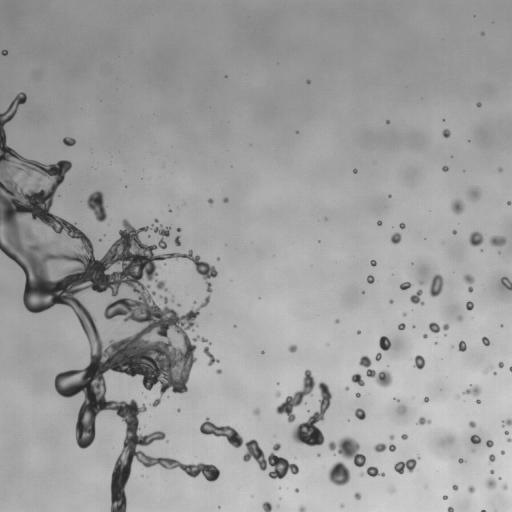droplet: (87, 190, 107, 222), (327, 461, 350, 485), (429, 274, 443, 297), (409, 289, 425, 305), (450, 198, 465, 215), (462, 384, 481, 396), (366, 465, 385, 477), (468, 231, 483, 246), (467, 186, 481, 201), (489, 235, 506, 247), (463, 274, 474, 292), (351, 372, 365, 386), (379, 336, 391, 351), (413, 355, 425, 369), (500, 276, 511, 290), (354, 408, 366, 420), (390, 232, 401, 244), (62, 137, 76, 146), (399, 282, 413, 291), (470, 434, 481, 445), (47, 154, 58, 165), (460, 195, 471, 206), (84, 208, 95, 219), (159, 216, 170, 227), (192, 347, 203, 358), (79, 356, 90, 367), (370, 360, 381, 371), (188, 366, 199, 377), (387, 366, 398, 377), (103, 368, 114, 379), (364, 376, 375, 387), (382, 384, 393, 395), (75, 391, 86, 402), (355, 397, 366, 408), (309, 401, 320, 412), (419, 405, 430, 416), (96, 409, 107, 420), (296, 412, 307, 423), (116, 419, 127, 430), (136, 425, 147, 436), (66, 426, 77, 437), (116, 427, 127, 438), (321, 430, 332, 441), (350, 431, 361, 442), (316, 442, 327, 453), (261, 445, 272, 456), (342, 457, 353, 468), (130, 459, 141, 470), (383, 463, 394, 474), (344, 480, 355, 491), (474, 480, 485, 491), (122, 482, 133, 493), (293, 493, 304, 504), (252, 407, 260, 420), (481, 336, 491, 346), (501, 417, 511, 427), (262, 501, 272, 511), (397, 404, 406, 414), (446, 434, 455, 444), (458, 340, 466, 351), (174, 235, 181, 247), (288, 344, 297, 353), (4, 138, 13, 147), (63, 170, 72, 179), (85, 186, 94, 195), (479, 190, 488, 199), (213, 196, 222, 205), (443, 202, 452, 211), (456, 211, 465, 220), (493, 228, 502, 237), (164, 235, 173, 244), (481, 238, 490, 247), (166, 243, 175, 252), (178, 244, 187, 253), (93, 251, 102, 260), (365, 265, 374, 274), (421, 283, 430, 292), (407, 286, 416, 295), (420, 291, 429, 300), (466, 292, 475, 301), (186, 329, 195, 338), (357, 366, 366, 375), (134, 373, 143, 382), (295, 381, 304, 390), (311, 385, 320, 394), (466, 393, 475, 402), (291, 405, 300, 414), (240, 433, 249, 442), (332, 435, 341, 444), (392, 436, 401, 445), (238, 444, 247, 453), (490, 445, 499, 454), (190, 456, 199, 465), (325, 460, 334, 469), (105, 464, 114, 473), (103, 475, 112, 484), (458, 483, 467, 492), (103, 488, 112, 497), (442, 128, 450, 138), (466, 300, 474, 310), (366, 274, 374, 283), (488, 454, 495, 464), (505, 236, 511, 247), (505, 442, 511, 453), (124, 505, 135, 511), (397, 323, 405, 331), (468, 420, 476, 428), (485, 440, 493, 448), (467, 485, 475, 493), (374, 352, 381, 361), (501, 481, 508, 490), (354, 492, 361, 500), (0, 221, 5, 232), (0, 231, 5, 242), (207, 198, 213, 207), (275, 390, 281, 399), (398, 222, 405, 229), (370, 259, 377, 266), (423, 395, 430, 402), (440, 122, 447, 129), (2, 123, 9, 130), (448, 127, 455, 134), (65, 131, 72, 138), (26, 153, 33, 160), (55, 185, 62, 192), (51, 193, 58, 200), (82, 193, 89, 200), (101, 199, 108, 206), (81, 201, 88, 208), (103, 206, 110, 213), (48, 207, 55, 214), (66, 216, 73, 223), (132, 222, 139, 229), (393, 225, 400, 232), (169, 230, 176, 237), (463, 234, 470, 241), (89, 236, 96, 243), (463, 238, 470, 245), (1, 239, 8, 246), (472, 244, 479, 251), (492, 244, 499, 251), (152, 248, 159, 255), (207, 259, 214, 266), (468, 269, 475, 276), (398, 276, 405, 283), (462, 281, 469, 288), (18, 283, 25, 290), (209, 291, 216, 298), (53, 302, 60, 309), (19, 304, 26, 311), (40, 309, 47, 316), (192, 316, 199, 323), (368, 353, 375, 360), (502, 363, 509, 370), (60, 365, 67, 372), (121, 372, 128, 379), (360, 373, 367, 380), (313, 377, 320, 384), (153, 382, 160, 389), (327, 385, 334, 392), (104, 394, 111, 401), (302, 394, 309, 401), (60, 395, 67, 402), (278, 396, 285, 403), (72, 408, 79, 415), (323, 410, 330, 417), (280, 411, 287, 418), (136, 412, 143, 419), (71, 415, 78, 422), (214, 419, 221, 426), (93, 423, 100, 430), (469, 427, 476, 434), (220, 435, 227, 442), (375, 437, 382, 444), (322, 438, 329, 445), (257, 441, 264, 448), (88, 442, 95, 449), (301, 442, 308, 449), (134, 443, 141, 450), (312, 443, 319, 450), (487, 446, 494, 453), (275, 450, 282, 457), (262, 451, 269, 458), (494, 452, 501, 459), (182, 458, 189, 465), (203, 458, 210, 465), (489, 461, 496, 468), (153, 463, 160, 470), (266, 464, 273, 471), (360, 464, 367, 471), (174, 466, 181, 473), (179, 470, 186, 477), (197, 472, 204, 479), (491, 472, 498, 479), (495, 479, 502, 486), (328, 481, 335, 488), (338, 483, 345, 490), (446, 488, 453, 495), (444, 499, 451, 506), (298, 505, 306, 511), (442, 165, 449, 171), (456, 315, 463, 321), (452, 484, 458, 491), (389, 486, 395, 493), (458, 458, 466, 463), (447, 506, 455, 511), (1, 49, 7, 55), (222, 197, 228, 203), (498, 361, 503, 368), (401, 434, 408, 439), (377, 220, 382, 226), (334, 318, 339, 324), (216, 369, 222, 374), (355, 392, 361, 397), (359, 471, 364, 477), (442, 494, 447, 500), (507, 424, 511, 431), (507, 481, 511, 488), (258, 507, 265, 511), (269, 507, 276, 511), (338, 507, 345, 511), (476, 102, 481, 107), (498, 167, 503, 172), (176, 227, 181, 232), (452, 229, 457, 234), (419, 279, 424, 284), (356, 329, 361, 334), (422, 333, 427, 338), (344, 386, 349, 391), (504, 430, 509, 435), (506, 437, 511, 442), (316, 452, 321, 457), (25, 96, 30, 101), (6, 99, 11, 104), (4, 102, 9, 107), (480, 102, 485, 107), (18, 103, 23, 108), (12, 114, 17, 119), (9, 118, 14, 123), (438, 133, 443, 138), (441, 136, 446, 141), (445, 136, 450, 141), (63, 144, 68, 149), (60, 155, 65, 160), (444, 161, 449, 166), (222, 192, 227, 197), (207, 193, 212, 198), (211, 195, 216, 200), (204, 201, 209, 206), (211, 201, 216, 206), (224, 201, 229, 206), (104, 216, 109, 221), (119, 225, 124, 230), (81, 228, 86, 233), (85, 232, 90, 237), (115, 233, 120, 238), (386, 234, 391, 239), (162, 235, 167, 240), (178, 237, 183, 242), (394, 242, 399, 247), (183, 249, 188, 254), (191, 252, 196, 257), (198, 257, 203, 262), (10, 259, 15, 264), (214, 265, 219, 270), (19, 269, 24, 274), (434, 269, 439, 274), (216, 271, 221, 276), (20, 272, 25, 277), (208, 276, 213, 281), (470, 282, 475, 287), (418, 294, 423, 299), (434, 294, 439, 299), (18, 295, 23, 300), (208, 297, 213, 302), (409, 301, 414, 306), (206, 302, 211, 307), (415, 302, 420, 307), (461, 303, 466, 308), (198, 308, 203, 313), (338, 316, 343, 321), (430, 317, 435, 322), (427, 318, 432, 323), (338, 319, 343, 324), (76, 322, 81, 327), (438, 323, 443, 328), (448, 323, 453, 328), (191, 324, 196, 329), (439, 328, 444, 333), (445, 328, 450, 333), (426, 329, 431, 334), (381, 331, 386, 336), (387, 335, 392, 340), (487, 335, 492, 340), (374, 339, 379, 344), (289, 340, 294, 345), (202, 341, 207, 346), (453, 344, 458, 349), (296, 345, 301, 350), (465, 345, 470, 350), (387, 346, 392, 351), (377, 347, 382, 352), (208, 348, 213, 353), (416, 350, 421, 355), (291, 351, 296, 356), (362, 351, 367, 356), (411, 352, 416, 357), (212, 353, 217, 358), (421, 353, 426, 358), (205, 356, 210, 361), (355, 357, 360, 362), (410, 359, 415, 364), (493, 361, 498, 366), (191, 362, 196, 367), (368, 364, 373, 369), (422, 364, 427, 369), (70, 365, 75, 370), (306, 365, 311, 370), (413, 366, 418, 371), (494, 366, 499, 371), (487, 370, 492, 375), (300, 372, 305, 377), (216, 373, 221, 378), (50, 376, 55, 381), (471, 380, 476, 385), (184, 381, 189, 386), (50, 385, 55, 390), (274, 385, 279, 390), (174, 391, 179, 396), (476, 394, 481, 399), (149, 397, 154, 402), (159, 399, 164, 404), (299, 401, 304, 406), (136, 402, 141, 407), (248, 406, 253, 411), (350, 408, 355, 413), (111, 409, 116, 414), (258, 411, 263, 416), (308, 411, 313, 416), (364, 411, 369, 416), (251, 414, 256, 419), (424, 415, 429, 420), (502, 415, 507, 420), (353, 416, 358, 421), (414, 416, 419, 421), (470, 416, 475, 421), (200, 417, 205, 422), (208, 417, 213, 422), (360, 418, 365, 423), (422, 422, 427, 427), (417, 423, 422, 428), (464, 423, 469, 428), (195, 424, 200, 429), (153, 426, 158, 431), (157, 426, 162, 431), (160, 427, 165, 432), (499, 427, 504, 432), (386, 430, 391, 435), (164, 433, 169, 438), (202, 433, 207, 438), (209, 433, 214, 438), (465, 436, 470, 441), (159, 438, 164, 443), (275, 438, 280, 443), (401, 438, 406, 443), (152, 439, 157, 444), (271, 439, 276, 444), (390, 439, 395, 444), (480, 439, 485, 444), (468, 441, 473, 446), (73, 442, 78, 447), (118, 442, 123, 447), (474, 442, 479, 447), (384, 447, 389, 452), (161, 453, 166, 458), (169, 454, 174, 459), (407, 454, 412, 459), (411, 454, 416, 459), (131, 456, 136, 461), (249, 456, 254, 461), (484, 456, 489, 461), (401, 457, 406, 462), (287, 459, 292, 464), (415, 459, 420, 464), (295, 461, 300, 466), (389, 463, 394, 468), (414, 463, 419, 468), (215, 464, 220, 469), (402, 466, 407, 471), (412, 466, 417, 471), (377, 468, 382, 473), (364, 473, 369, 478), (217, 474, 222, 479), (374, 474, 379, 479), (274, 476, 279, 481), (212, 479, 217, 484), (208, 480, 213, 485), (454, 480, 459, 485), (354, 487, 359, 492), (502, 489, 507, 494), (349, 492, 354, 497), (360, 494, 365, 499), (350, 495, 355, 500), (452, 505, 457, 510), (475, 399, 481, 403), (0, 106, 3, 113), (306, 79, 310, 84), (385, 120, 390, 124), (353, 168, 357, 173), (216, 256, 220, 261), (176, 303, 181, 307), (260, 350, 264, 355), (455, 394, 459, 399), (471, 447, 475, 452), (500, 450, 505, 454), (423, 484, 427, 489), (294, 488, 299, 492), (340, 503, 344, 508), (507, 289, 511, 294), (480, 31, 484, 35), (507, 201, 511, 205), (168, 208, 172, 212), (389, 299, 393, 303), (402, 312, 406, 316), (443, 333, 447, 337), (434, 341, 438, 345), (493, 371, 497, 375), (508, 196, 511, 201), (508, 276, 511, 281), (508, 414, 511, 419), (508, 432, 511, 437), (508, 441, 511, 446), (215, 508, 220, 511), (294, 508, 299, 511), (304, 508, 309, 511), (442, 508, 447, 511), (296, 130, 299, 134), (388, 194, 391, 198), (98, 238, 102, 241), (361, 290, 364, 294), (257, 296, 261, 299), (326, 342, 329, 346), (177, 408, 180, 412), (278, 485, 281, 489), (250, 494, 254, 497), (276, 504, 279, 508), (0, 249, 2, 254), (224, 75, 227, 78), (442, 118, 445, 121), (450, 155, 453, 158), (462, 169, 465, 172), (57, 194, 60, 197), (324, 217, 327, 220), (103, 233, 106, 236), (317, 240, 320, 243), (480, 249, 483, 252), (498, 251, 501, 254), (193, 300, 196, 303), (233, 324, 236, 327), (412, 325, 415, 328), (500, 324, 503, 327), (451, 345, 454, 348), (276, 382, 279, 385), (140, 391, 143, 394), (307, 409, 310, 412), (278, 497, 281, 500), (217, 505, 220, 508), (480, 28, 483, 31), (7, 50, 10, 53), (222, 72, 225, 75), (227, 74, 230, 77), (307, 76, 310, 79), (223, 77, 226, 80), (303, 80, 306, 83), (306, 83, 309, 86), (21, 89, 24, 92), (475, 99, 478, 102), (473, 104, 476, 107), (476, 106, 479, 109), (441, 115, 444, 118), (386, 116, 389, 119), (444, 117, 447, 120), (389, 119, 392, 122), (439, 119, 442, 122), (382, 120, 385, 123), (386, 123, 389, 126), (295, 127, 298, 130), (298, 129, 301, 132), (292, 130, 295, 133), (295, 133, 298, 136), (60, 136, 63, 139), (467, 136, 470, 139), (466, 141, 469, 144), (351, 165, 354, 168), (439, 165, 442, 168), (355, 166, 358, 169), (349, 168, 352, 171), (356, 170, 359, 173), (441, 170, 444, 173), (445, 170, 448, 173), (350, 171, 353, 174), (353, 173, 356, 176), (142, 177, 145, 180), (121, 185, 124, 188), (126, 185, 129, 188), (388, 191, 391, 194), (384, 194, 387, 197), (391, 194, 394, 197), (227, 197, 230, 200), (388, 197, 391, 200), (504, 199, 507, 202), (504, 203, 507, 206), (169, 206, 172, 209), (165, 207, 168, 210), (167, 211, 170, 214), (156, 216, 159, 219), (378, 217, 381, 220), (375, 218, 378, 221), (397, 220, 400, 223), (402, 220, 405, 223), (381, 221, 384, 224), (374, 222, 377, 225), (404, 223, 407, 226), (74, 224, 77, 227), (139, 224, 142, 227), (177, 224, 180, 227), (377, 225, 380, 228), (454, 227, 457, 230), (449, 229, 452, 232), (455, 232, 458, 235), (451, 233, 454, 236), (99, 235, 102, 238), (317, 236, 320, 239), (420, 236, 423, 239), (314, 239, 317, 242), (423, 239, 426, 242), (319, 240, 322, 243), (316, 242, 319, 245), (480, 251, 483, 254), (370, 256, 373, 259), (219, 257, 222, 260), (375, 259, 378, 262), (413, 261, 416, 264), (411, 264, 414, 267), (370, 265, 373, 268), (373, 265, 376, 268), (371, 273, 374, 276), (364, 274, 367, 277), (499, 274, 502, 277), (373, 276, 376, 279), (409, 280, 412, 283), (365, 281, 368, 284), (372, 281, 375, 284), (498, 281, 501, 284), (369, 282, 372, 285), (502, 285, 505, 288), (465, 287, 468, 290), (359, 288, 362, 291), (471, 290, 474, 293), (256, 293, 259, 296), (361, 293, 364, 296), (388, 296, 391, 299), (391, 297, 394, 300), (466, 298, 469, 301), (469, 298, 472, 301), (392, 301, 395, 304), (387, 302, 390, 305), (467, 309, 470, 312), (405, 313, 408, 316), (332, 317, 335, 320), (399, 320, 402, 323), (233, 321, 236, 324), (335, 322, 338, 325), (497, 322, 500, 325), (502, 322, 505, 325), (404, 324, 407, 327), (414, 324, 417, 327), (501, 326, 504, 329), (233, 327, 236, 330), (412, 327, 415, 330), (400, 329, 403, 332), (353, 330, 356, 333), (359, 332, 362, 335), (199, 334, 202, 337), (480, 334, 483, 337), (485, 334, 488, 337), (423, 337, 426, 340), (464, 340, 467, 343), (479, 340, 482, 343), (431, 342, 434, 345), (436, 342, 439, 345), (488, 343, 491, 346), (260, 347, 263, 350), (263, 348, 266, 351), (257, 350, 260, 353), (459, 350, 462, 353), (262, 353, 265, 356), (379, 358, 382, 361), (495, 373, 498, 376), (276, 378, 279, 381), (273, 380, 276, 383), (469, 380, 472, 383), (279, 381, 282, 384), (342, 384, 345, 387), (462, 388, 465, 391), (458, 391, 461, 394), (352, 393, 355, 396), (425, 393, 428, 396), (359, 395, 362, 398), (395, 395, 398, 398), (421, 395, 424, 398), (428, 396, 431, 399), (389, 397, 392, 400), (393, 399, 396, 402), (427, 400, 430, 403), (424, 401, 427, 404), (473, 401, 476, 404), (144, 403, 147, 406), (157, 403, 160, 406), (477, 403, 480, 406), (173, 408, 176, 411), (179, 409, 182, 412), (430, 419, 433, 422), (499, 421, 502, 424), (501, 431, 504, 434), (399, 432, 402, 435), (478, 434, 481, 437), (489, 437, 492, 440), (492, 440, 495, 443), (394, 448, 397, 451), (503, 448, 506, 451), (418, 453, 421, 456), (502, 453, 505, 456), (316, 456, 319, 459), (455, 457, 458, 460), (462, 457, 465, 460), (456, 461, 459, 464), (461, 461, 464, 464), (395, 471, 398, 474), (369, 475, 372, 478), (268, 476, 271, 479), (452, 481, 455, 484), (457, 485, 460, 488), (292, 486, 295, 489), (297, 486, 300, 489), (449, 486, 452, 489), (280, 487, 283, 490), (276, 488, 279, 491), (298, 489, 301, 492), (293, 491, 296, 494), (444, 492, 447, 495), (440, 493, 443, 496), (447, 495, 450, 498), (439, 496, 442, 499), (337, 503, 340, 506), (450, 504, 453, 507), (214, 505, 217, 508), (220, 505, 223, 508), (148, 234, 150, 238), (467, 140, 470, 142), (411, 262, 413, 265), (386, 365, 389, 367), (144, 395, 146, 398), (167, 395, 169, 398), (166, 440, 168, 443), (141, 474, 143, 477), (509, 203, 511, 206), (473, 15, 475, 17), (230, 165, 232, 167), (125, 185, 127, 187), (347, 419, 349, 421), (294, 457, 296, 459), (0, 49, 1, 52), (0, 52, 1, 55), (272, 255, 274, 256), (411, 309, 413, 310), (144, 425, 145, 426)
ligament: (199, 417, 300, 479), (327, 436, 366, 467), (358, 355, 393, 388), (394, 455, 420, 474), (428, 322, 449, 333), (415, 416, 431, 425), (482, 364, 494, 374), (393, 397, 400, 402), (170, 294, 174, 302), (480, 508, 487, 511), (493, 510, 497, 511)
